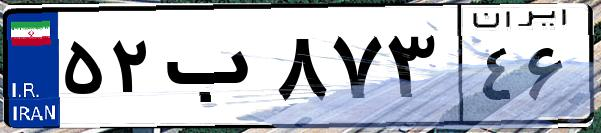2: (110, 28, 158, 98)
3: (385, 28, 445, 110)
4: (475, 38, 525, 113)
5: (57, 26, 110, 100)
6: (525, 38, 570, 115)
7: (330, 28, 385, 110)
8: (270, 28, 330, 110)
ب: (158, 20, 270, 120)
